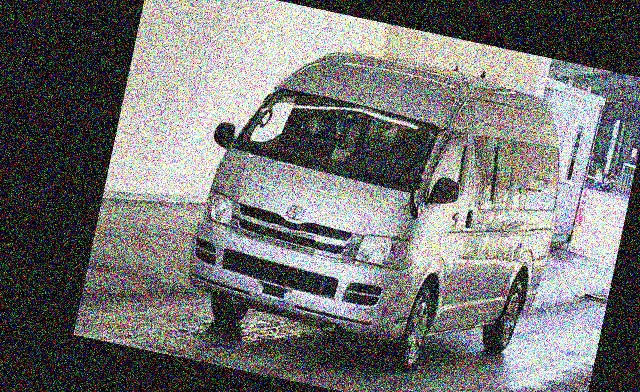van: (170, 13, 589, 389)
